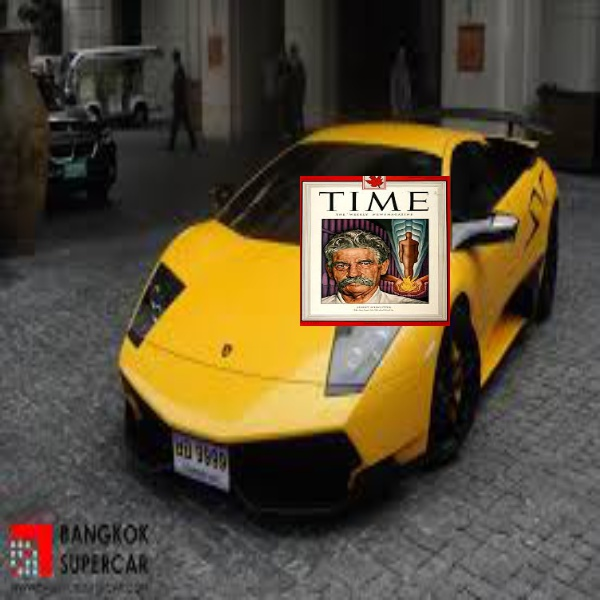time_cover: (286, 167, 460, 334)
